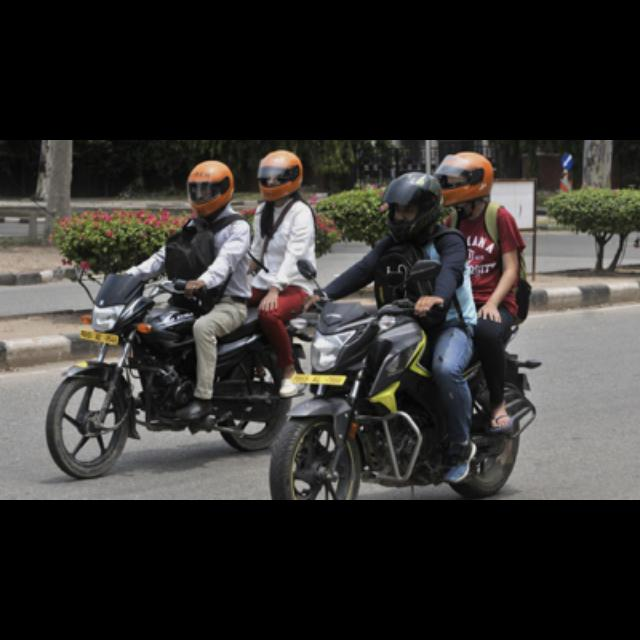With Helmet: (376, 166, 444, 240), (180, 155, 240, 225)
